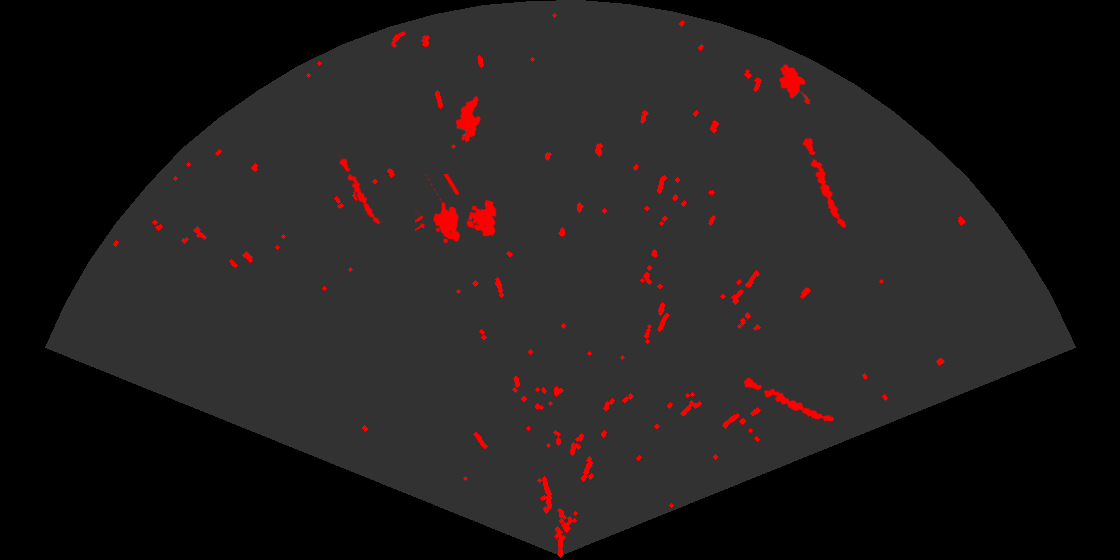AUV: (778, 63, 812, 106), (454, 94, 482, 144)
cage: (415, 174, 498, 245)
chain: (801, 136, 848, 230), (742, 376, 836, 423), (337, 154, 382, 226)
